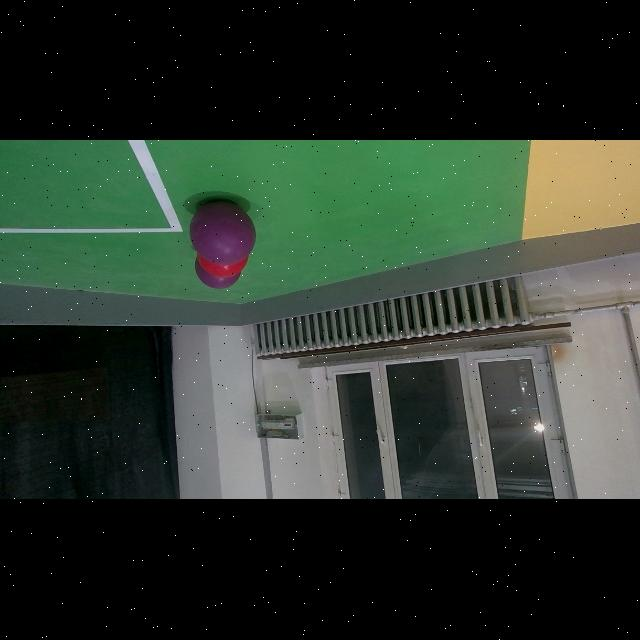P: (190, 200, 256, 266)
R: (198, 253, 248, 279)
